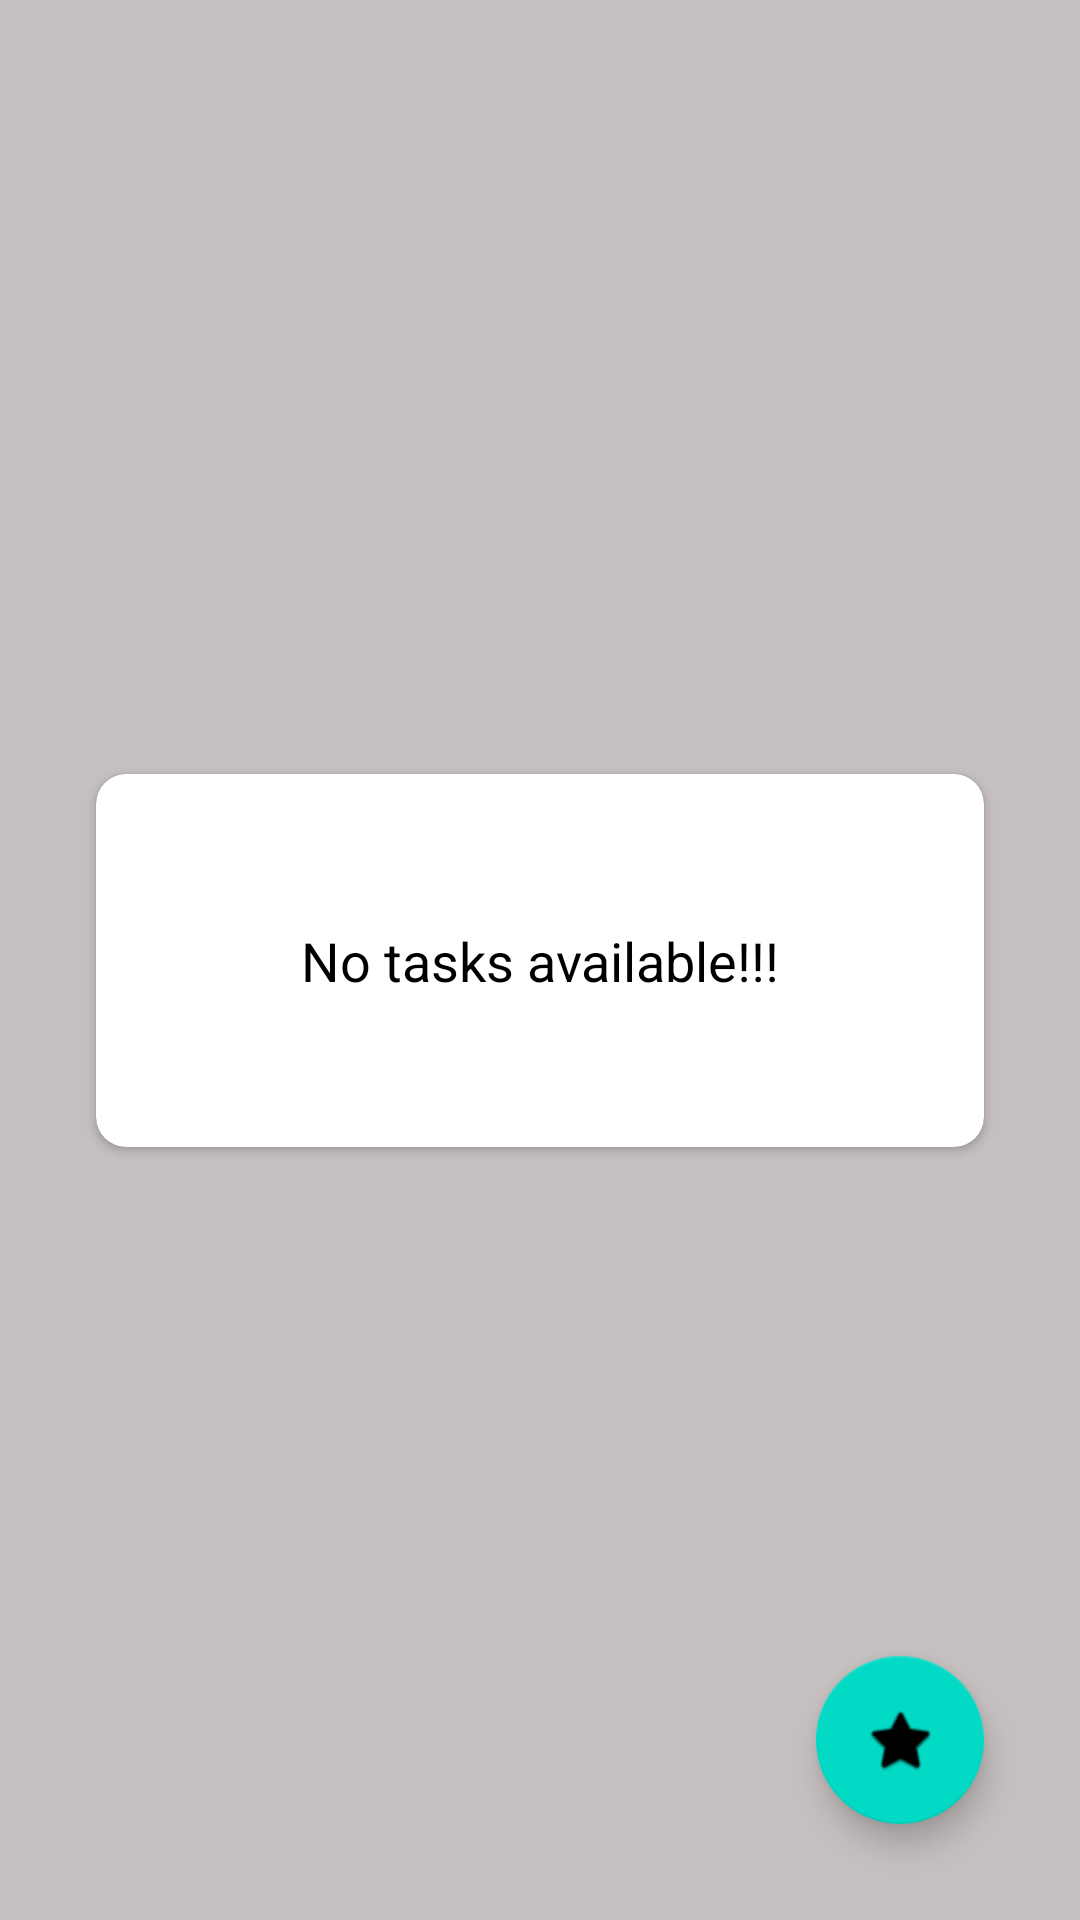

Screen size 1080 × 1920. Icon name, then its box in pixels as bbox=[x1, y1, x2, y2]:
star: bbox=[816, 1656, 984, 1824]
